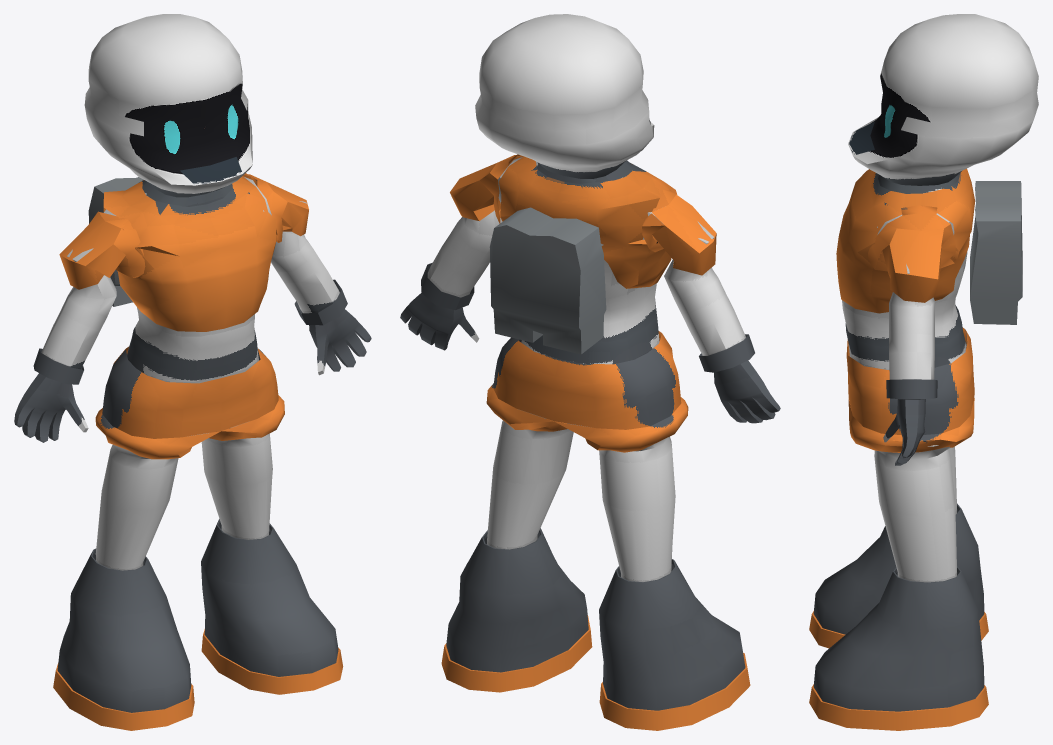
Rendered from robot.glb.
3 renders of one model, left to right at view 1: azimuth 30°, elevation 25°; view 2: azimuth 150°, elevation 25°; view 3: azimuth 270°, elevation 25°, orthographic. The views are drawn at different scales.
Visible parts, largest first — view 1: Body, Chest_armour_plate, Boot_R, Boot_L, Armour_shorts, Shoulder_pads_Sleeve_R, Boot_soles_R, Boot_soles_L, Shoulder_pads, Armour_shorts_R, Armour_shorts_L, Jetpack_0 (+3 smaller); view 2: Body, Boot_R, Boot_L, Jetpack_0, Armour_shorts, Chest_armour_plate, Shoulder_pads_Sleeve_R, Boot_soles_R, Boot_soles_L, Armour_shorts_R, Shoulder_pads_Sleeve_L, Shoulder_pads (+3 smaller); view 3: Body, Boot_L, Chest_armour_plate, Jetpack_0, Boot_R, Armour_shorts, Shoulder_pads_Sleeve_L, Boot_soles_L, Shoulder_pads, Armour_shorts_L, Glove_L, Boot_soles_R.
Part boxes in pixels (x1,y1,x2,y2): Body: [14, 14, 371, 570]; Chest_armour_plate: [103, 176, 276, 331]; Boot_R: [57, 548, 191, 712]; Boot_L: [201, 519, 338, 676]; Armour_shorts: [102, 346, 278, 438]; Shoulder_pads_Sleeve_R: [59, 212, 125, 289]; Boot_soles_R: [53, 663, 194, 730]; Boot_soles_L: [201, 629, 343, 694]; Shoulder_pads: [98, 173, 287, 277]; Armour_shorts_R: [95, 408, 220, 459]; Armour_shorts_L: [209, 395, 284, 440]; Jetpack_0: [88, 177, 143, 306]; Body: [400, 14, 780, 581]; Boot_R: [599, 559, 745, 710]; Boot_L: [446, 528, 588, 672]; Jetpack_0: [489, 207, 606, 354]; Armour_shorts: [493, 331, 681, 429]; Chest_armour_plate: [498, 156, 677, 288]; Shoulder_pads_Sleeve_R: [652, 194, 716, 275]; Boot_soles_R: [599, 652, 750, 730]; Boot_soles_L: [441, 615, 592, 692]; Armour_shorts_R: [555, 397, 688, 452]; Shoulder_pads_Sleeve_L: [450, 163, 496, 220]; Shoulder_pads: [480, 154, 675, 252]; Body: [842, 14, 1038, 582]; Boot_L: [813, 566, 984, 711]; Chest_armour_plate: [836, 168, 975, 313]; Jetpack_0: [970, 181, 1022, 324]; Boot_R: [813, 503, 984, 634]; Armour_shorts: [846, 327, 974, 434]; Shoulder_pads_Sleeve_L: [882, 228, 943, 302]; Boot_soles_L: [809, 684, 988, 730]; Shoulder_pads: [868, 205, 955, 271]; Armour_shorts_L: [848, 399, 974, 452]; Glove_L: [886, 379, 937, 398]; Boot_soles_R: [809, 611, 988, 648].
Size of the model in its own units: 0.9356 by 1.59 by 0.5145.
Materials: 9 (9 with a texture image).
